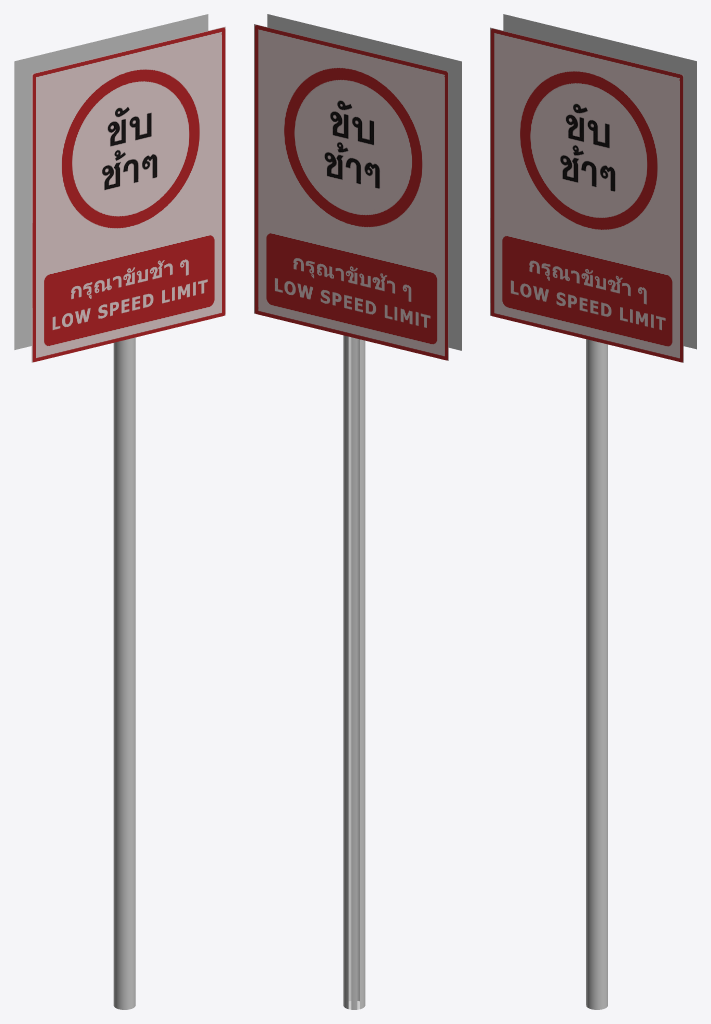
File: Sing2.gltf
The picture shows the model from 3 angles, left to right: view 1: azimuth 30°, elevation 25°; view 2: azimuth 150°, elevation 25°; view 3: azimuth 330°, elevation 25°; orthographic projection.
Visible parts, largest first — view 1: S24; view 2: S24; view 3: S24.
Boxes of the visible parts, x1,y1,x2,y2 form: S24: (14,14,225,1009); S24: (254,14,461,1009); S24: (490,14,696,1009).
Bounding box in the file's own units: 0.7184 × 3.37 × 0.0979.
300 materials, 4 textured.
